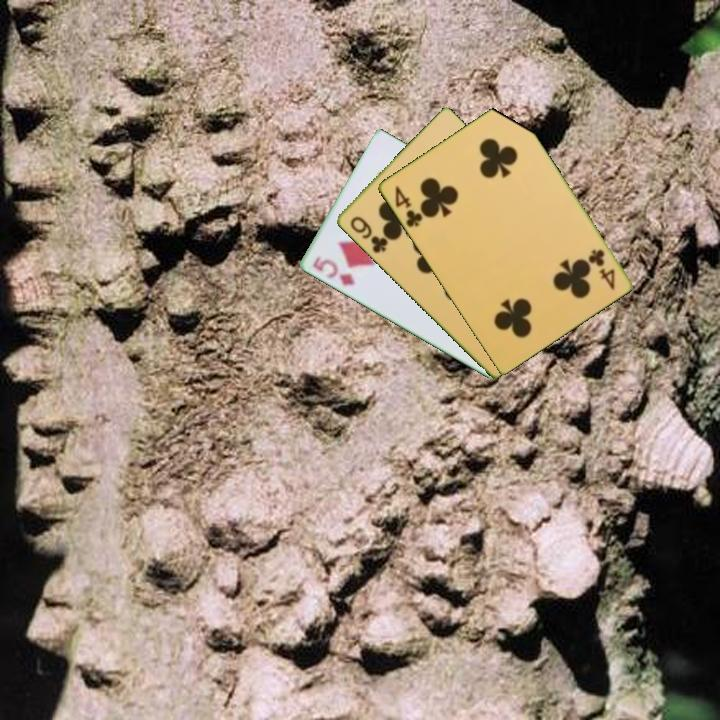4c: (391, 182, 425, 230), (585, 245, 617, 293)
5d: (309, 252, 358, 289)
9c: (346, 213, 390, 256)
